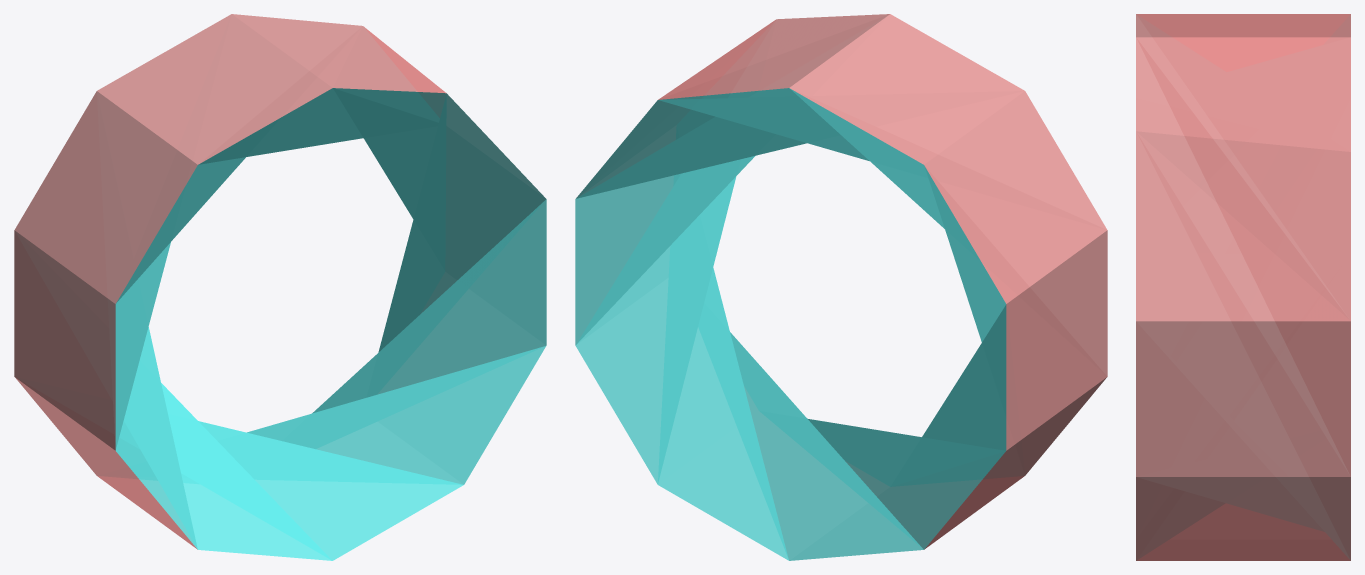
The model's file is DecagonalIrisToroid.obj.
3 renders of one model, left to right at view 1: azimuth 30°, elevation 25°; view 2: azimuth 150°, elevation 25°; view 3: azimuth 270°, elevation 25°, orthographic. The views are drawn at different scales.
Size of the model in its own units: 2.46 by 2.58 by 1.
